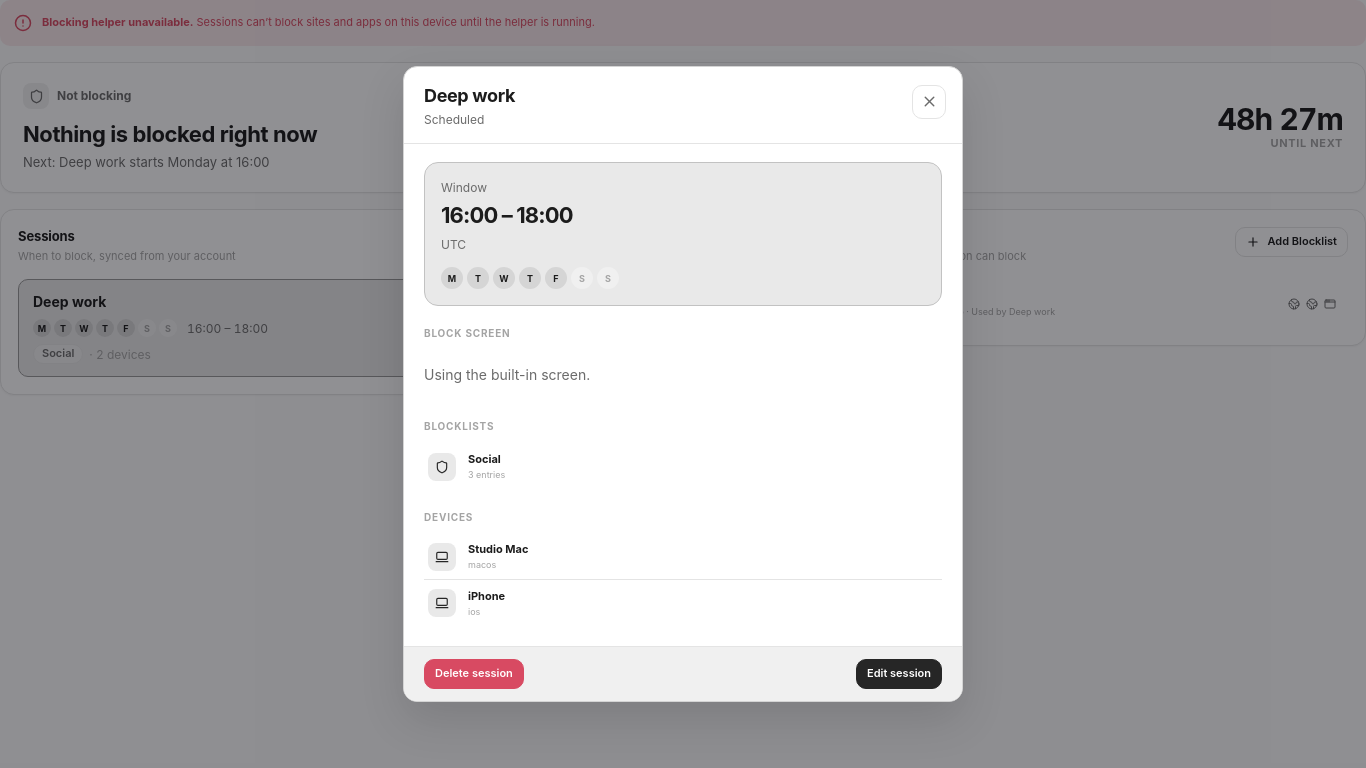
Test: BlockingScreen › edits a session from the inspector dialog
Click the button "Edit session" at (899, 674), box [856,659,942,689]
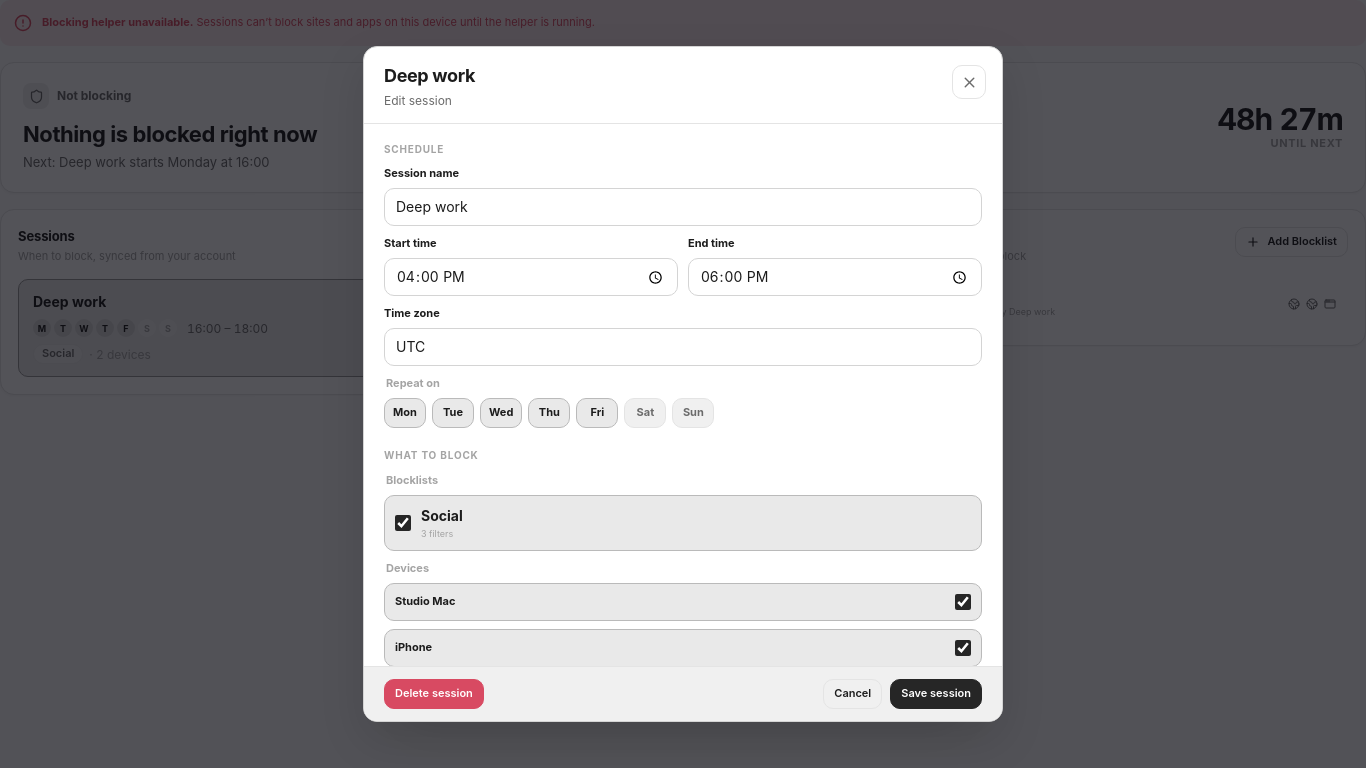
Now the dialog with id "session-edit-title" is shown, box [363,46,1003,722]
Now the time field labelled "Start time" holds "16:00", box [384,258,678,296]
Now the checkbox labelled "Social 3 filters" is checked, box [395,515,411,531]
Replace the text in the field labelled "Session name" with "Evening" at (683, 207), box [384,188,982,226]
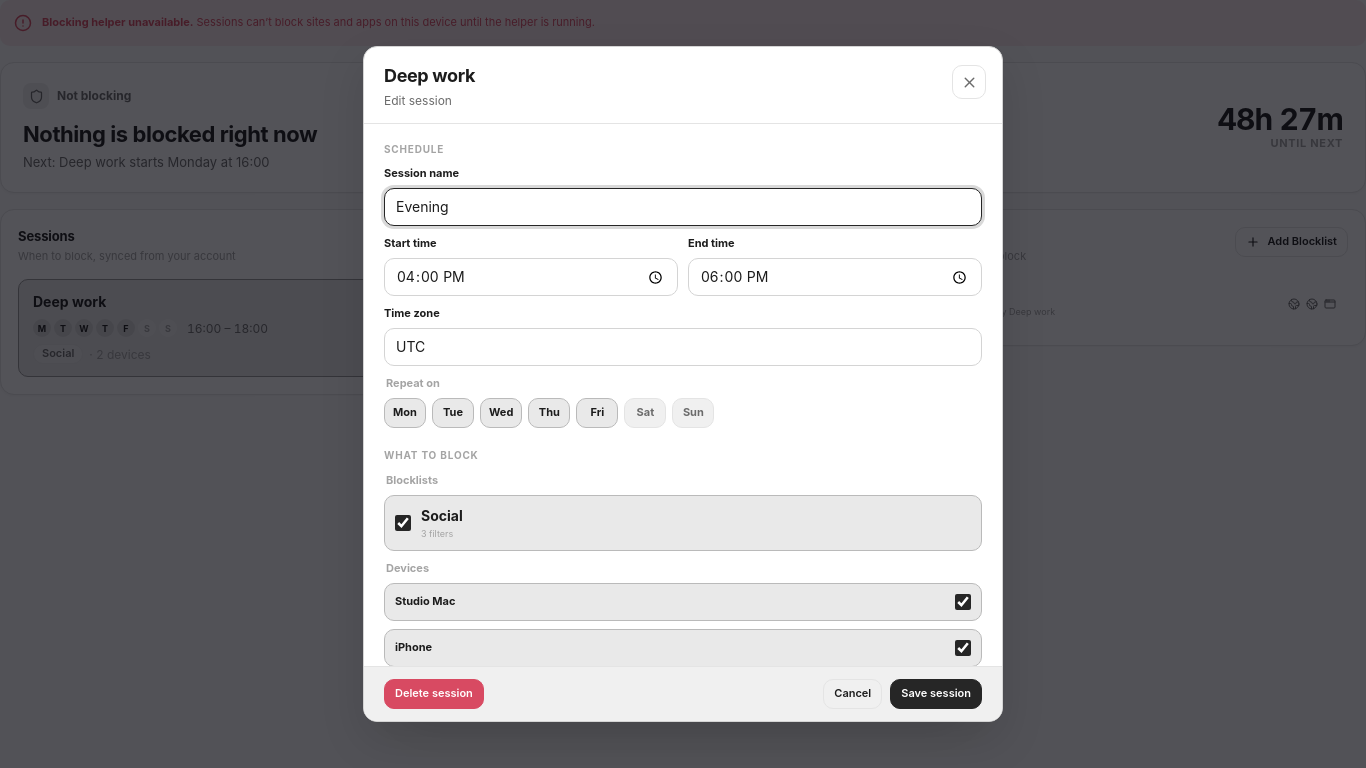
Click the button "Save session" at (936, 694), box [890,679,982,709]
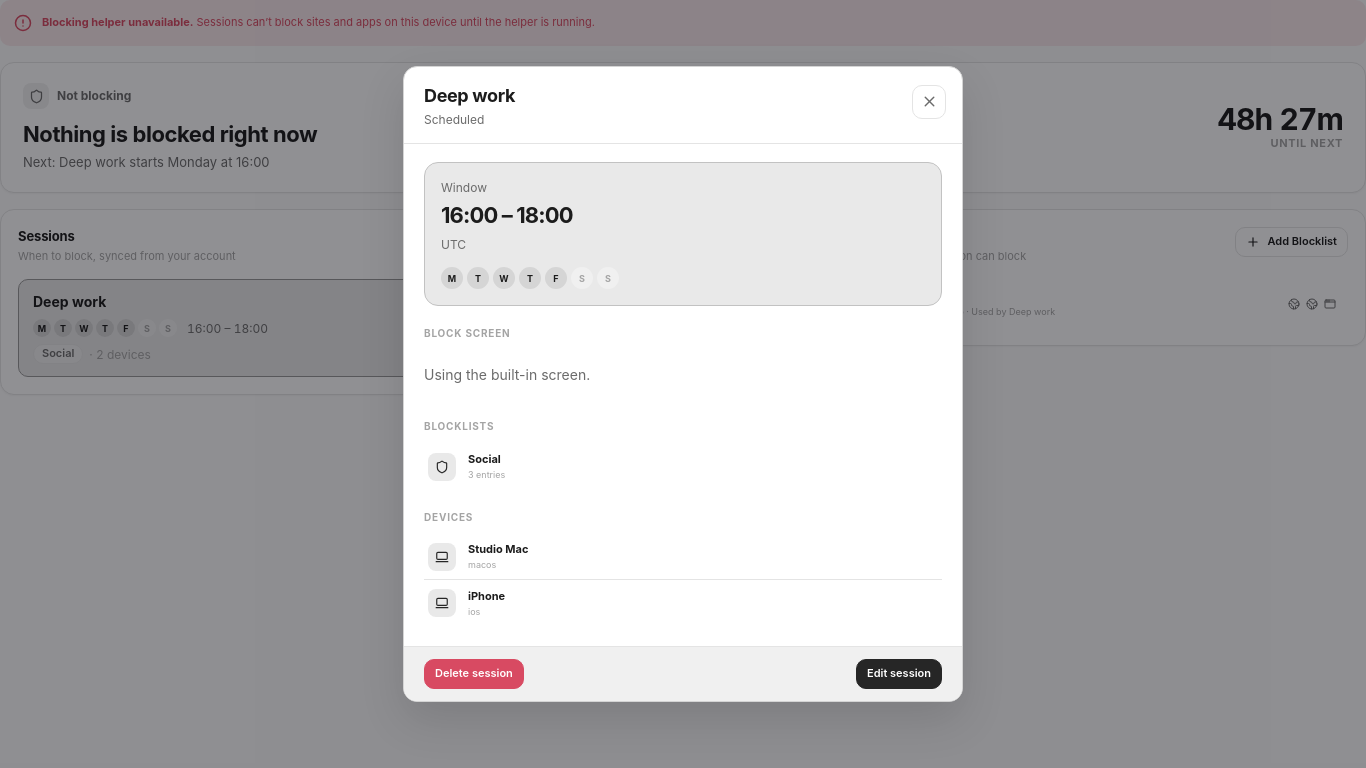
Expected: the dialog "Deep work" is shown, [403,66,963,702]
Now the text labelled "Session name" is gone
